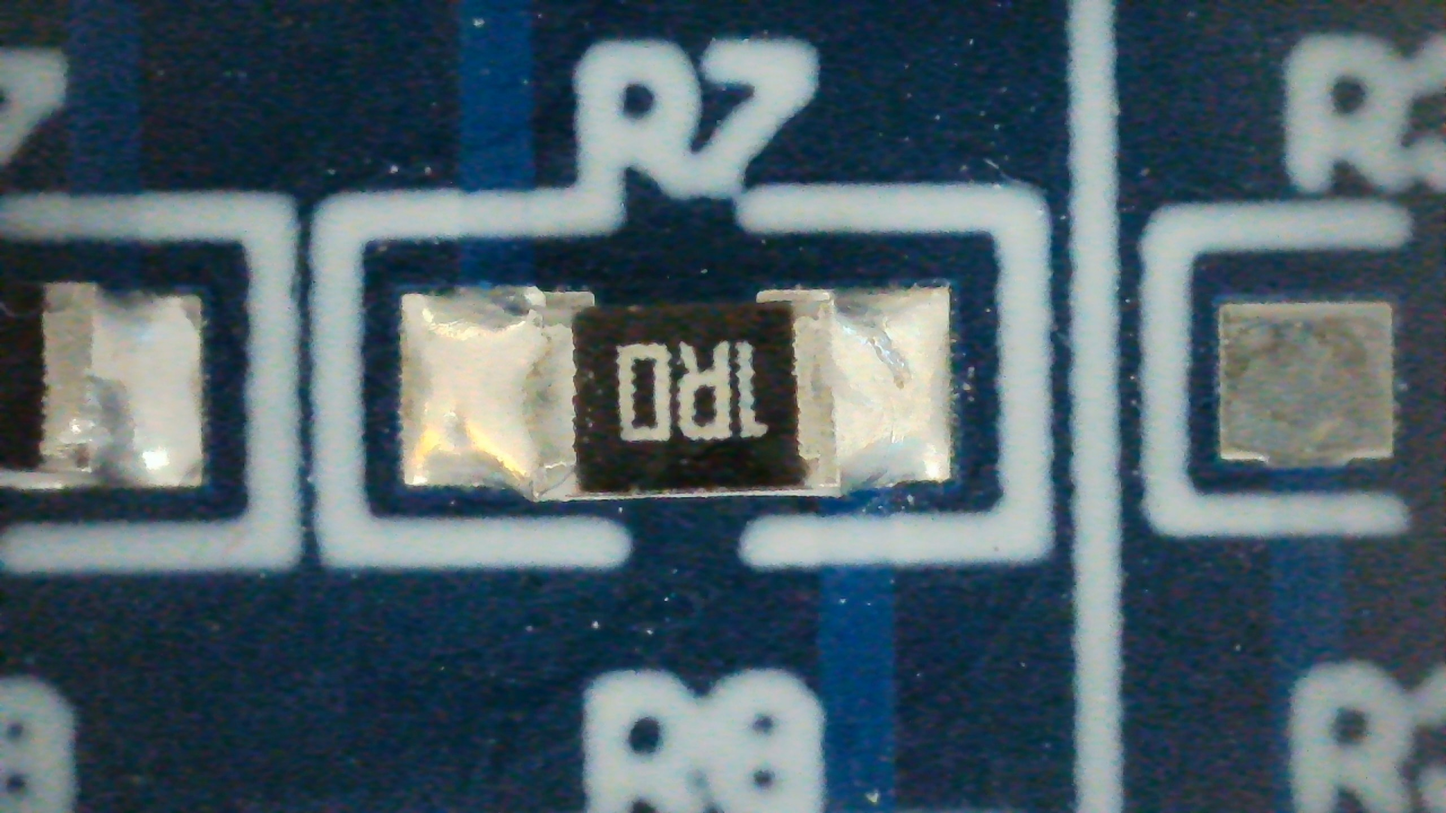NG: (401, 287, 951, 501)
